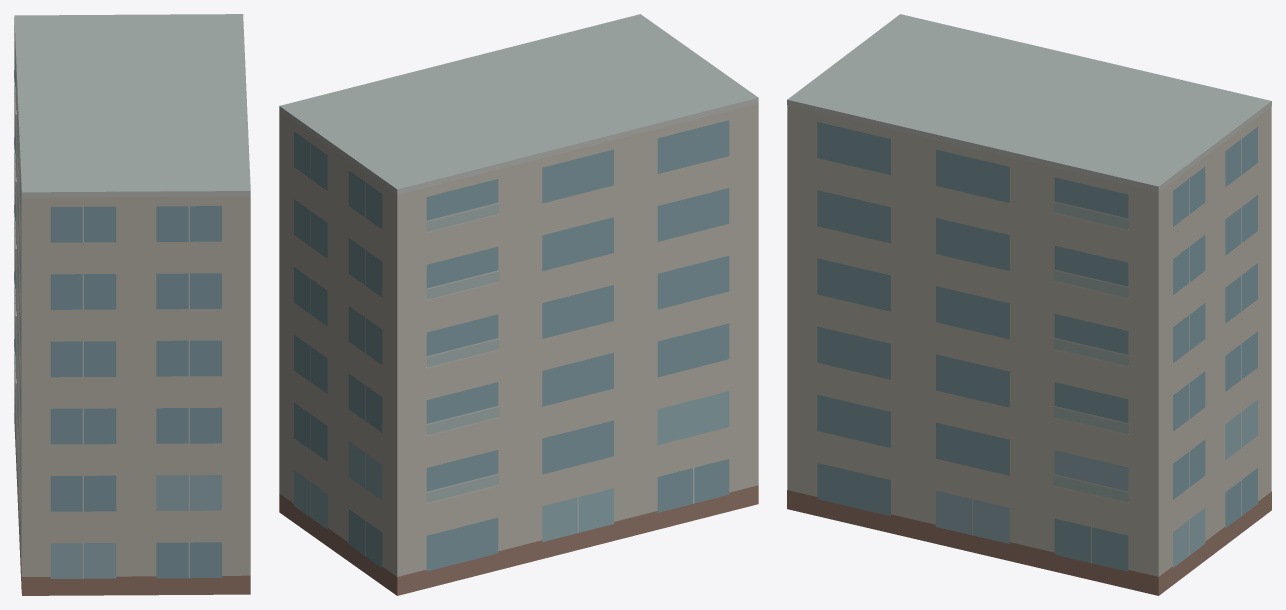
Rendered from survey-upis-32834659.glb.
3 views of the same model, side by side, from view 1: azimuth 30°, elevation 25°; view 2: azimuth 150°, elevation 25°; view 3: azimuth 270°, elevation 25° (orthographic).
Parts seen in each view (by area): view 1: survey-upis-32834659.tmp; view 2: survey-upis-32834659.tmp; view 3: survey-upis-32834659.tmp.
Boxes of the visible parts, x1,y1,x2,y2 form: survey-upis-32834659.tmp: (14, 14, 250, 595); survey-upis-32834659.tmp: (279, 14, 758, 595); survey-upis-32834659.tmp: (787, 14, 1271, 595).
Bounding box in the file's own units: 16.55 × 18.3 × 19.65.
